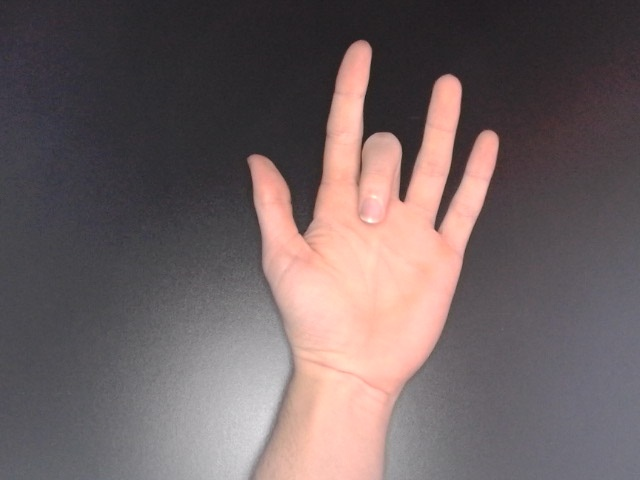reset: (240, 35, 504, 412)
